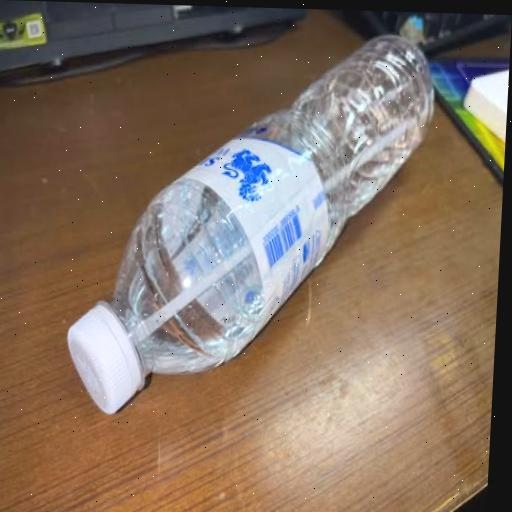ba: (54, 19, 449, 432)
